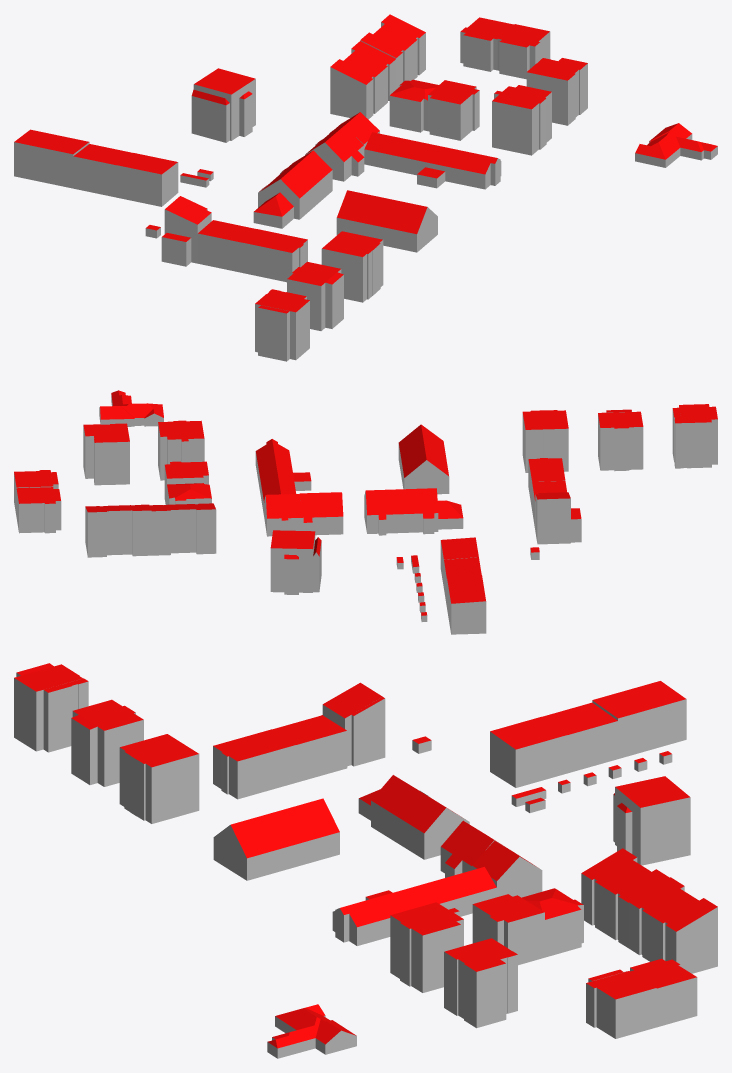
3 renders of one model, top to bottom at view 1: azimuth 30°, elevation 25°; view 2: azimuth 150°, elevation 25°; view 3: azimuth 270°, elevation 25°, orthographic. The views are drawn at different scales.
Bounding box in the file's own units: 212 × 17.68 × 188.
